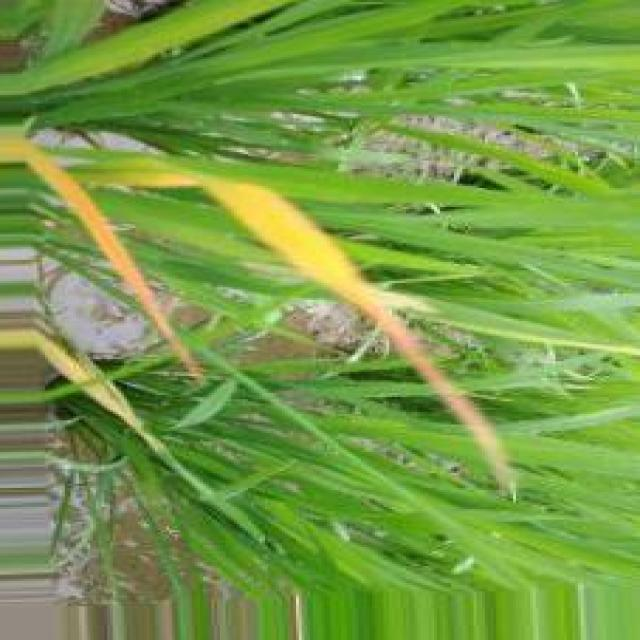Rice Tungro: (199, 177, 512, 492), (29, 144, 200, 379)
